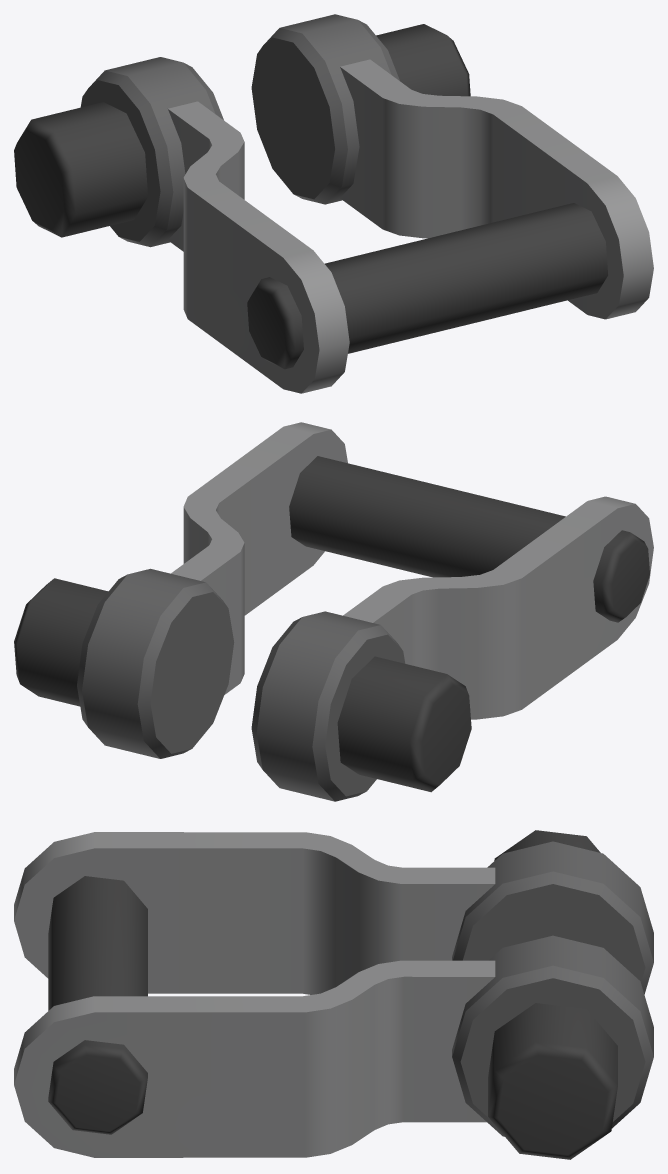
The model's file is Armchair_013_Part_01.fbx.
3 views of the same model, one above another, from view 1: azimuth 30°, elevation 25°; view 2: azimuth 150°, elevation 25°; view 3: azimuth 270°, elevation 25° (orthographic). The views are drawn at different scales.
Parts seen in each view (by area): view 1: Armchair_013_Part_01; view 2: Armchair_013_Part_01; view 3: Armchair_013_Part_01.
Boxes of the visible parts, x1,y1,x2,y2 form: Armchair_013_Part_01: [14, 14, 653, 393]; Armchair_013_Part_01: [14, 422, 653, 801]; Armchair_013_Part_01: [14, 830, 653, 1159].
Bounding box in the file's own units: 32.64 × 40.12 × 12.65.
